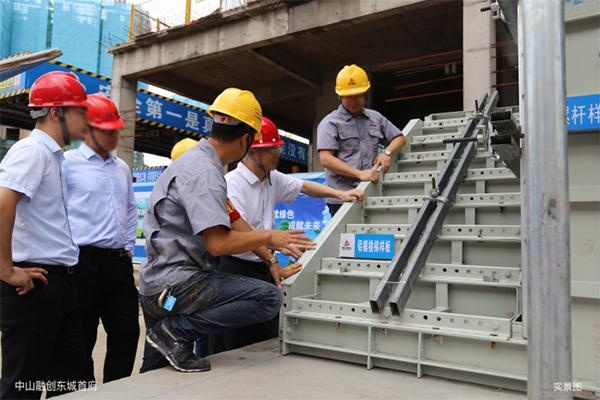red: (30, 69, 89, 141), (81, 93, 121, 151), (242, 117, 281, 172)
yellow: (206, 87, 261, 164), (331, 62, 373, 112)
